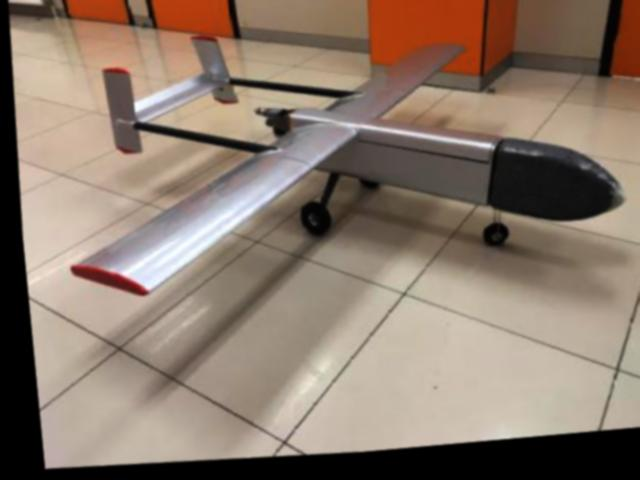uav: (45, 0, 635, 318)
